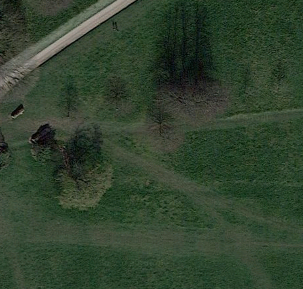tree: (44, 151, 125, 222), (159, 71, 232, 127), (124, 111, 185, 162), (100, 90, 148, 131), (52, 105, 87, 131)
